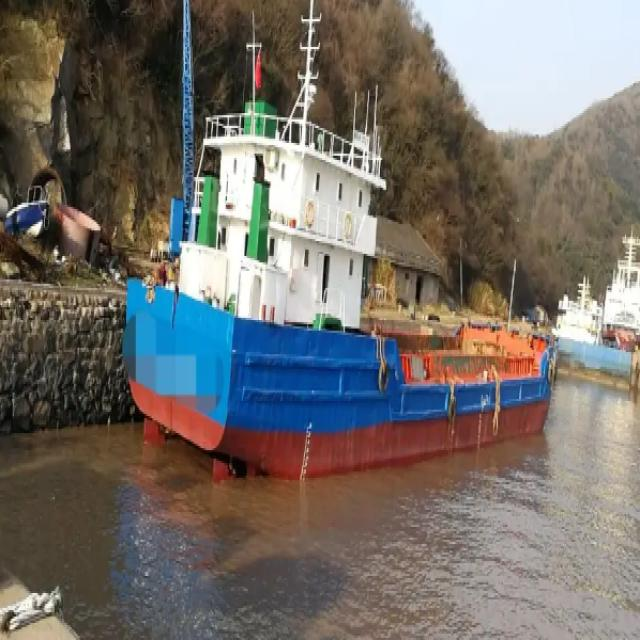fishing boat: (123, 6, 560, 494)
